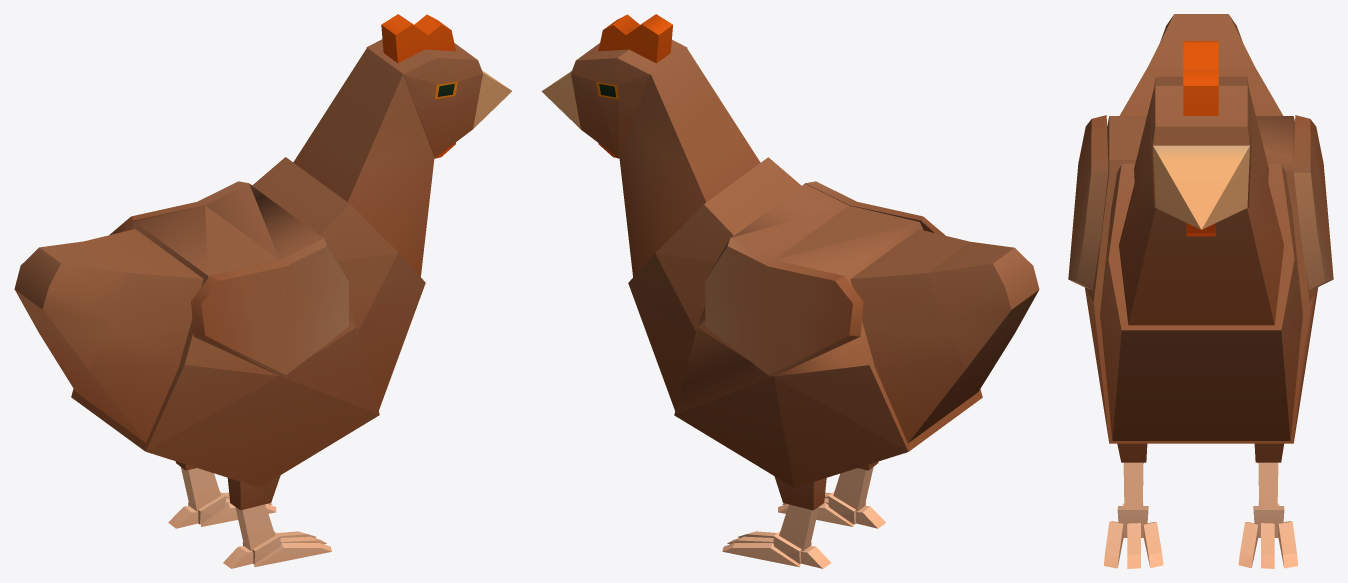
The model's file is m_chicken_hen_01.obj.
The picture shows the model from 3 angles, left to right: view 1: azimuth 30°, elevation 25°; view 2: azimuth 150°, elevation 25°; view 3: azimuth 270°, elevation 25°; orthographic projection. The views are drawn at different scales.
Visible parts, largest first — view 1: m_chicken_hen_01_M_FarmAnimals; view 2: m_chicken_hen_01_M_FarmAnimals; view 3: m_chicken_hen_01_M_FarmAnimals.
Part boxes in pixels (x1,y1,x2,y2): m_chicken_hen_01_M_FarmAnimals: (14, 14, 511, 568); m_chicken_hen_01_M_FarmAnimals: (541, 14, 1039, 568); m_chicken_hen_01_M_FarmAnimals: (1068, 14, 1333, 568).
Size of the model in its own units: 0.6901 by 0.6492 by 0.2642.
1 material, 1 textured.
